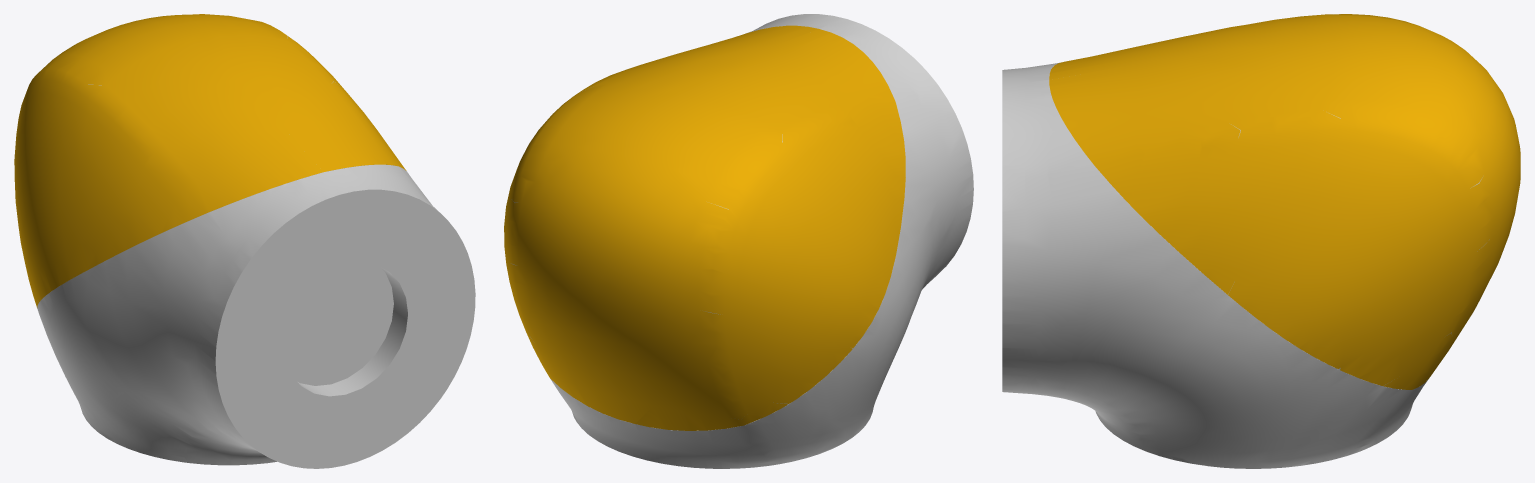
3 renders of one model, left to right at view 1: azimuth 30°, elevation 25°; view 2: azimuth 150°, elevation 25°; view 3: azimuth 270°, elevation 25°, orthographic. The views are drawn at different scales.
Visible parts, largest first — view 1: ShapeIndexedFaceSet-mesh, ShapeIndexedFaceSet-mesh_1; view 2: ShapeIndexedFaceSet-mesh_1, ShapeIndexedFaceSet-mesh; view 3: ShapeIndexedFaceSet-mesh_1, ShapeIndexedFaceSet-mesh.
Part boxes in pixels (left/top/right/bottom): ShapeIndexedFaceSet-mesh: left=37, top=36, right=475, bottom=468; ShapeIndexedFaceSet-mesh_1: left=14, top=14, right=406, bottom=307; ShapeIndexedFaceSet-mesh_1: left=504, top=25, right=905, bottom=430; ShapeIndexedFaceSet-mesh: left=511, top=14, right=973, bottom=468; ShapeIndexedFaceSet-mesh_1: left=1049, top=14, right=1520, bottom=389; ShapeIndexedFaceSet-mesh: left=1002, top=14, right=1489, bottom=468.
Bounding box in the file's own units: 0.1322 × 0.1376 × 0.1673.
